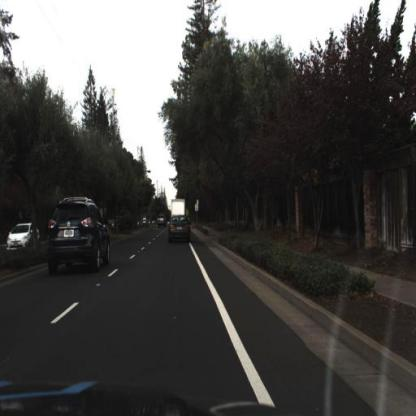car: (46, 195, 112, 275), (7, 220, 41, 253), (166, 213, 196, 245), (156, 211, 169, 232)
truck: (170, 198, 188, 222)
